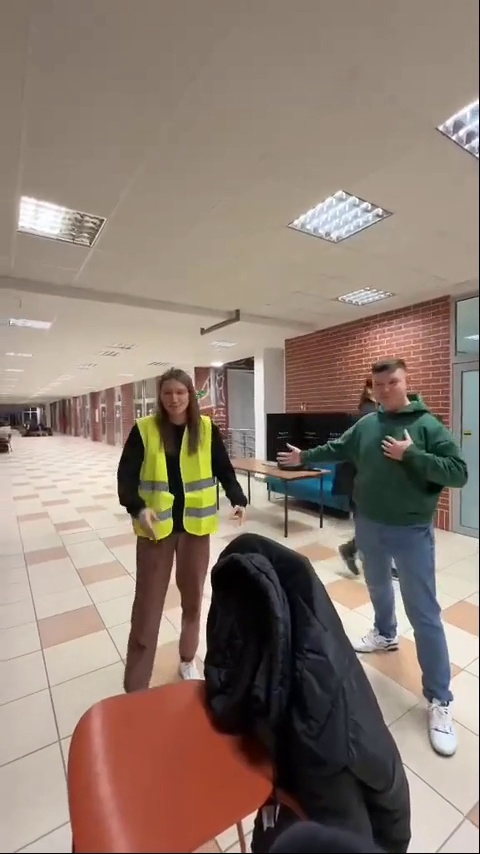no vest: (316, 364, 472, 752)
vest: (118, 368, 243, 694)
